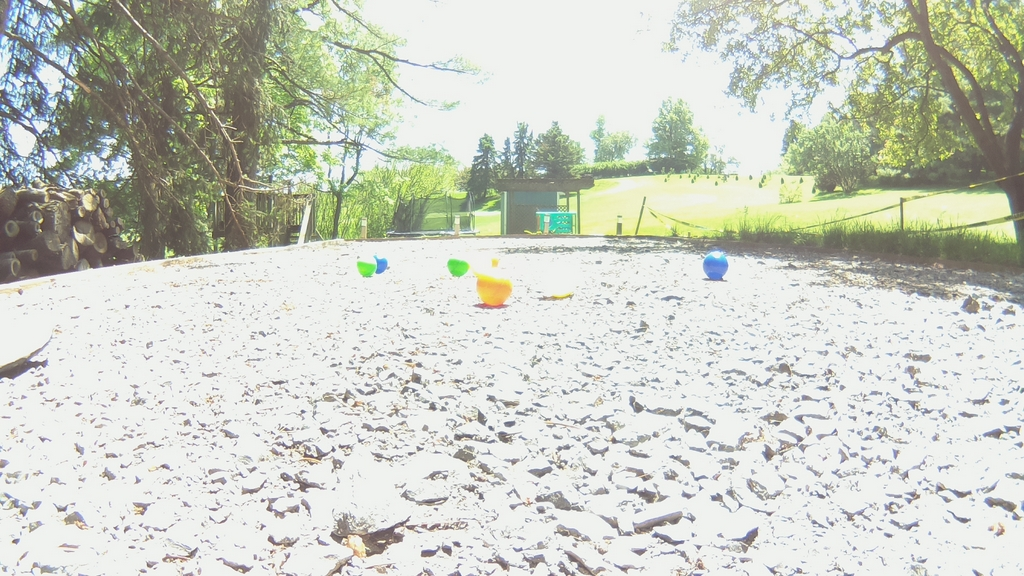ball: (355, 254, 376, 278)
